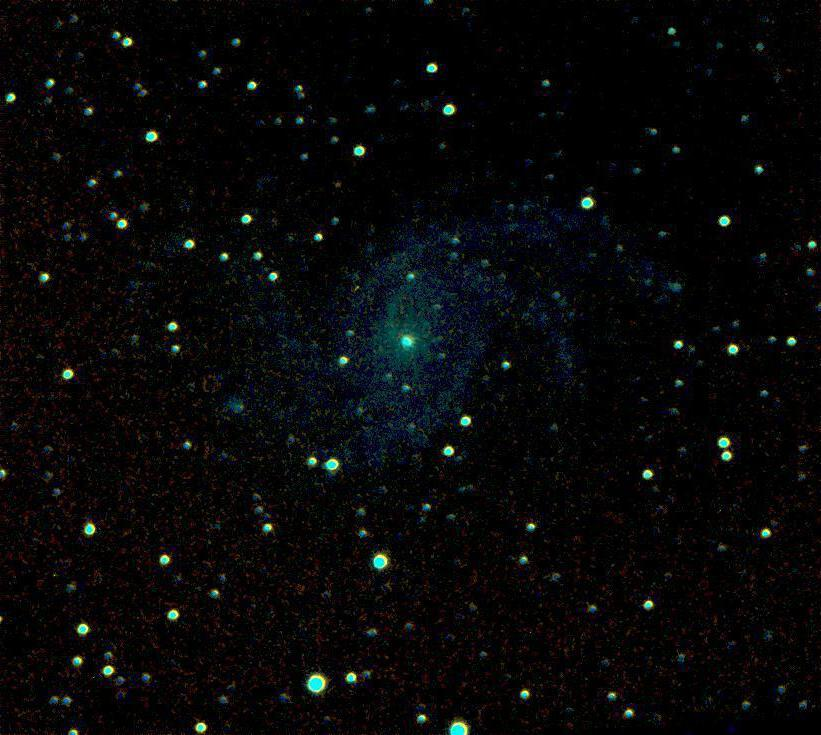star: (324, 170, 354, 200)
